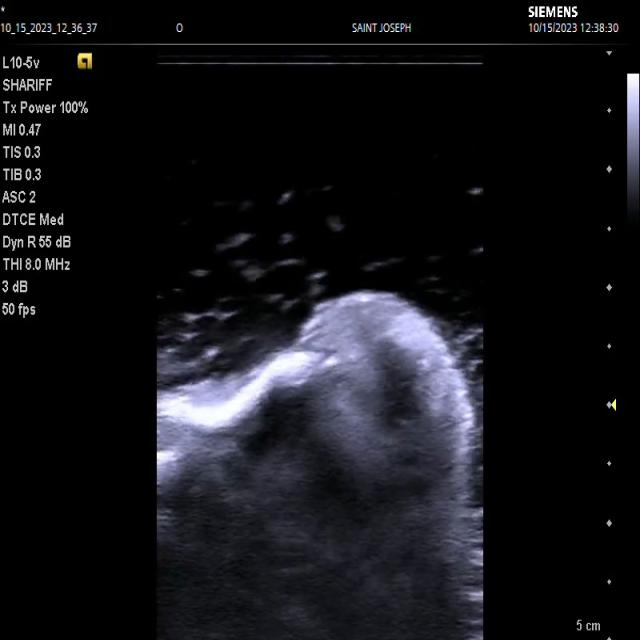tissue: (156, 292, 482, 640)
